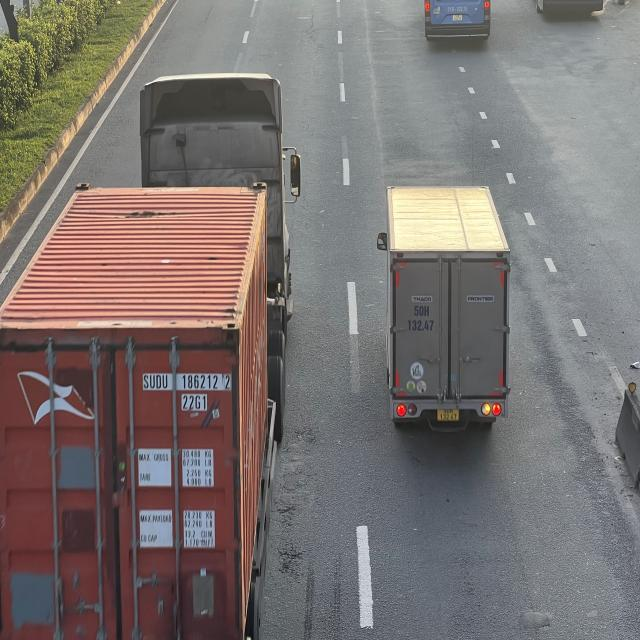container: (1, 69, 302, 640)
truck: (378, 187, 511, 437)
